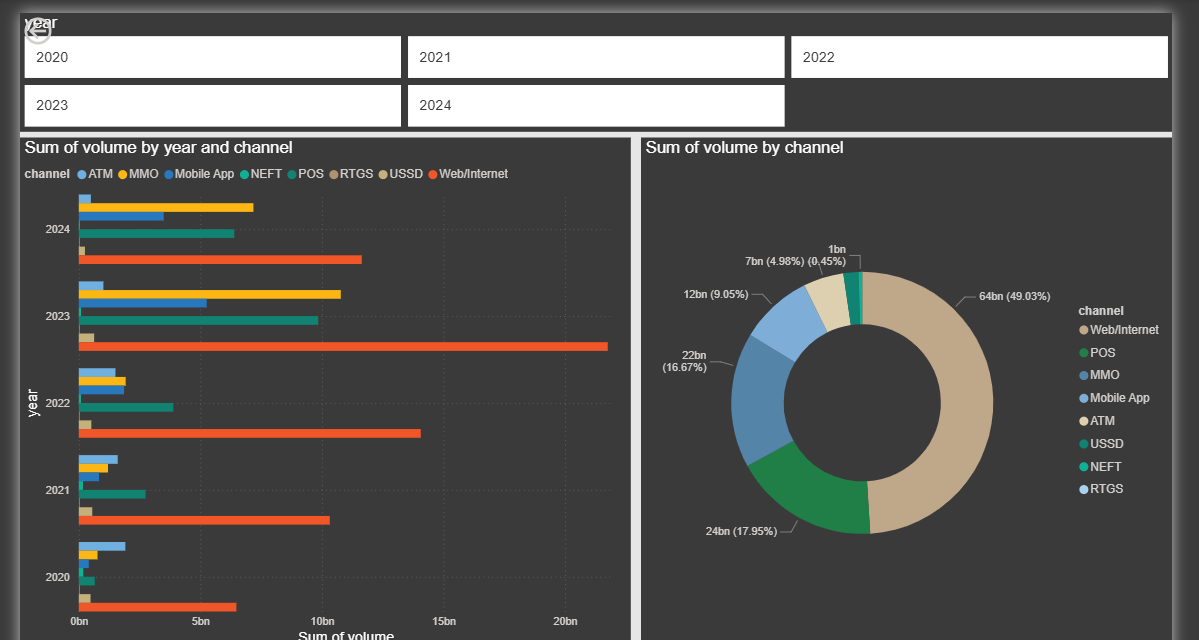

The page's visual inventory and layout, read from the dashboard file:
{"tool":"powerbi","page":{"name":"Channel Analysis","canvas":[1280,720],"ordinal":1},"visuals":[{"type":"donutChart","fields":{"Y":["Sum(cbn_epayment_2020_2024.volume)"],"Category":["cbn_epayment_2020_2024.channel"]},"box":[640,191.7,590,496.7],"z":1000},{"type":"advancedSlicerVisual","fields":{"Values":["cbn_epayment_2020_2024.year"]},"box":[656.7,40,555,133.3],"z":2000},{"type":"actionButton","box":[0,0,100,40],"z":3000},{"type":"clusteredBarChart","fields":{"Category":["cbn_epayment_2020_2024.year"],"Y":["Sum(cbn_epayment_2020_2024.volume)"],"Series":["cbn_epayment_2020_2024.channel"]},"box":[0,56.7,640,631.7],"z":3001}]}

Visuals, with their boxes on the page's 1280x720 design canvas (x1, y1, x2, y2). These are canvas units, not pixel positions in the 1199x640 screenshot, which may show the page scaled, cropped or inside an application window:
donutChart - Sum(cbn_epayment_2020_2024.volume) x cbn_epayment_2020_2024.channel: {"left": 640, "top": 192, "right": 1230, "bottom": 688}
advancedSlicerVisual - cbn_epayment_2020_2024.year: {"left": 657, "top": 40, "right": 1212, "bottom": 173}
actionButton: {"left": 0, "top": 0, "right": 100, "bottom": 40}
clusteredBarChart - cbn_epayment_2020_2024.year x Sum(cbn_epayment_2020_2024.volume): {"left": 0, "top": 57, "right": 640, "bottom": 688}
